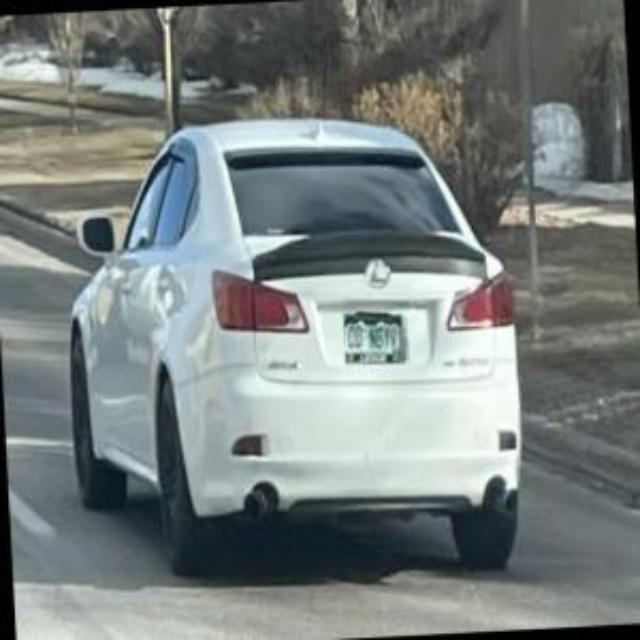License Plate: (338, 312, 409, 366)
